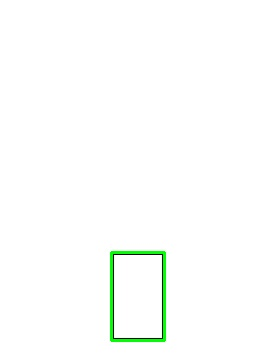line_segment: (110, 251, 165, 342)
